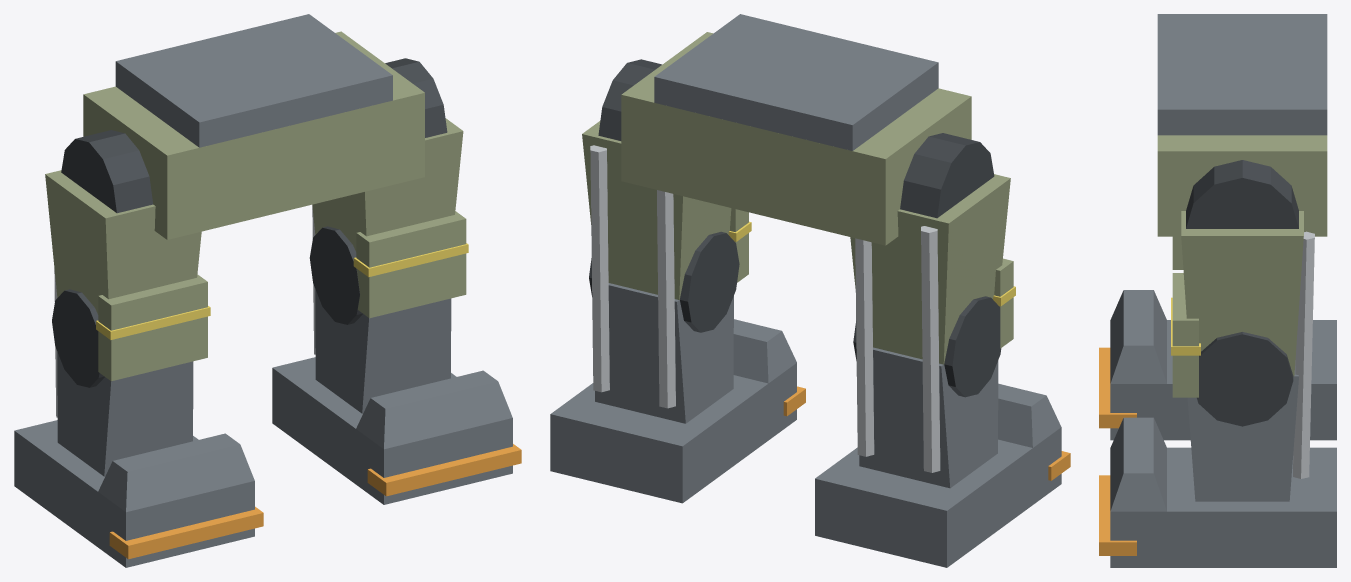
File: mech-hangar-and-battle-frames-assault-legs-fb8751e0__26818.glb
3 views of the same model, side by side, from view 1: azimuth 30°, elevation 25°; view 2: azimuth 150°, elevation 25°; view 3: azimuth 270°, elevation 25° (orthographic). The views are drawn at different scales.
Visible parts, largest first — view 1: assault-legs; view 2: assault-legs; view 3: assault-legs.
Boxes of the visible parts, x1,y1,x2,y2 form: assault-legs: (14, 14, 521, 567); assault-legs: (550, 14, 1070, 567); assault-legs: (1099, 14, 1336, 567).
Bounding box in the file's own units: 2.44 × 2.4 × 1.26.
